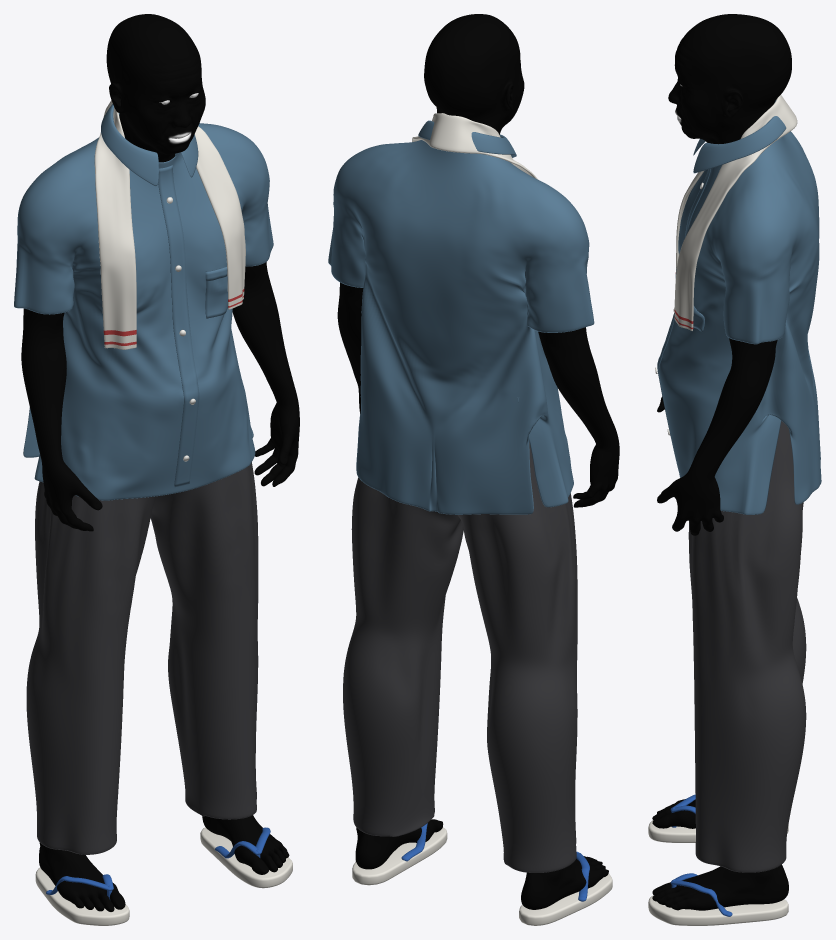
The model's file is ujang.glb.
3 views of the same model, side by side, from view 1: azimuth 30°, elevation 25°; view 2: azimuth 150°, elevation 25°; view 3: azimuth 270°, elevation 25° (orthographic).
Parts seen in each view (by area): view 1: Celana, Kemeja, Badan, Handuk, Plaket, Kerah, SandalAlas, SandalAlas.001, Saku; view 2: Kemeja, Celana, Badan, Handuk, SandalAlas, SandalAlas.001, Kerah; view 3: Celana, Kemeja, Badan, Handuk, SandalAlas, Kerah, SandalAlas.001, SandalTali, Plaket.
Part boxes in pixels (left/top/right/bottom): Celana: left=26, top=462, right=258, bottom=854; Kemeja: left=14, top=113, right=273, bottom=500; Badan: left=21, top=14, right=299, bottom=911; Handuk: left=94, top=100, right=245, bottom=349; Plaket: left=158, top=165, right=199, bottom=487; Kerah: left=101, top=104, right=198, bottom=186; SandalAlas: left=200, top=827, right=292, bottom=888; SandalAlas.001: left=35, top=867, right=129, bottom=925; Saku: left=205, top=276, right=227, bottom=318; Kemeja: left=328, top=140, right=594, bottom=514; Celana: left=343, top=442, right=577, bottom=872; Badan: left=337, top=14, right=619, bottom=909; Handuk: left=412, top=113, right=538, bottom=179; SandalAlas: left=352, top=827, right=447, bottom=885; SandalAlas.001: left=519, top=873, right=612, bottom=925; Kerah: left=418, top=120, right=516, bottom=157; Celana: left=688, top=421, right=806, bottom=872; Kemeja: left=658, top=131, right=821, bottom=514; Badan: left=652, top=14, right=791, bottom=910; Handuk: left=674, top=95, right=797, bottom=330; SandalAlas: left=648, top=895, right=788, bottom=925; Kerah: left=693, top=100, right=786, bottom=173; SandalAlas.001: left=648, top=820, right=788, bottom=842; SandalTali: left=670, top=873, right=732, bottom=916; Plaket: left=657, top=169, right=710, bottom=435.
Size of the model in its own units: 0.5185 by 1.63 by 0.2987.
10 materials, 2 textured.
